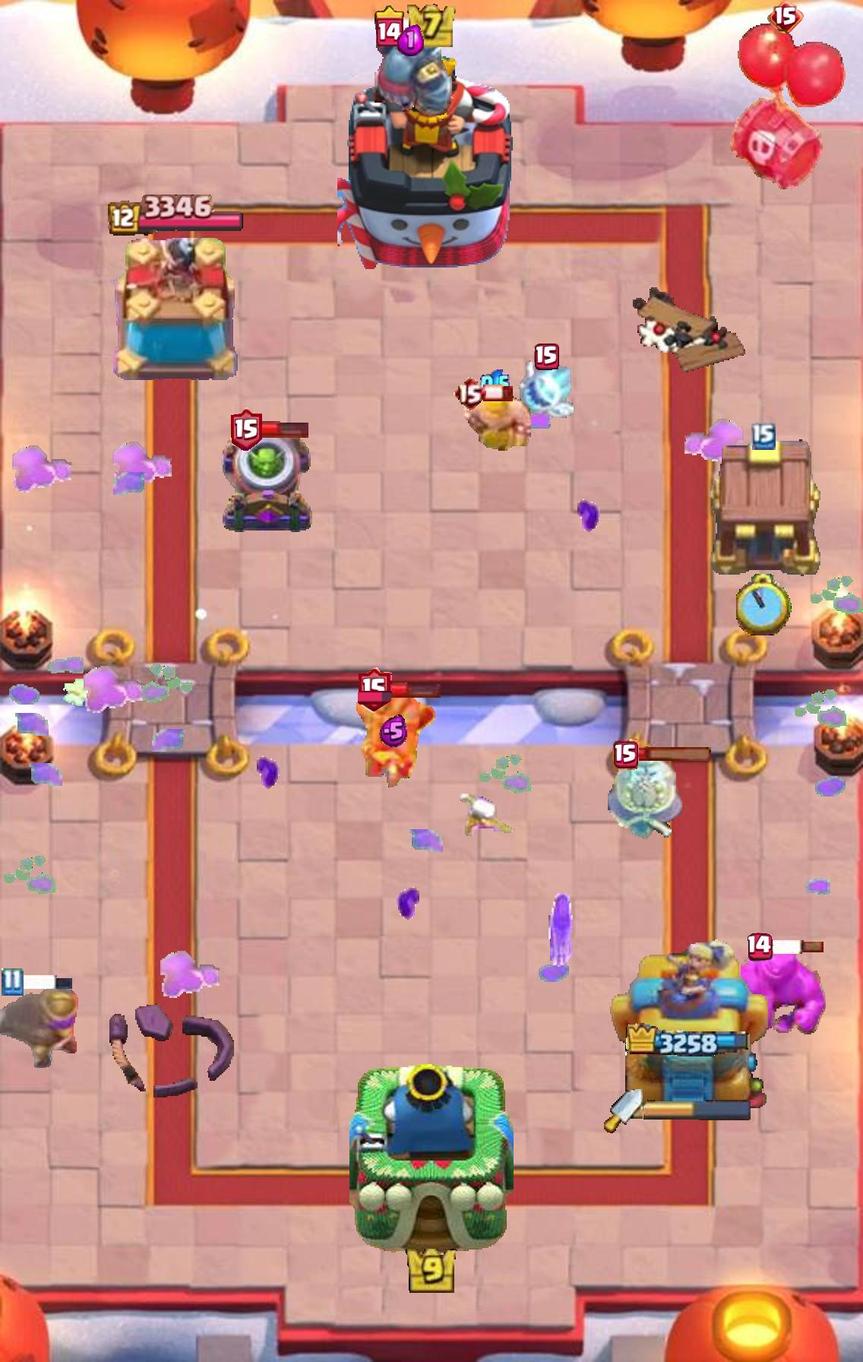bar: (636, 746, 715, 763), (258, 420, 308, 439), (770, 939, 824, 955), (388, 682, 441, 698), (483, 384, 514, 402)
bar-level: (358, 667, 392, 713), (230, 407, 262, 451), (374, 5, 404, 46), (767, 0, 804, 33), (453, 375, 486, 411), (612, 738, 640, 770), (534, 343, 560, 370), (748, 933, 773, 961)
